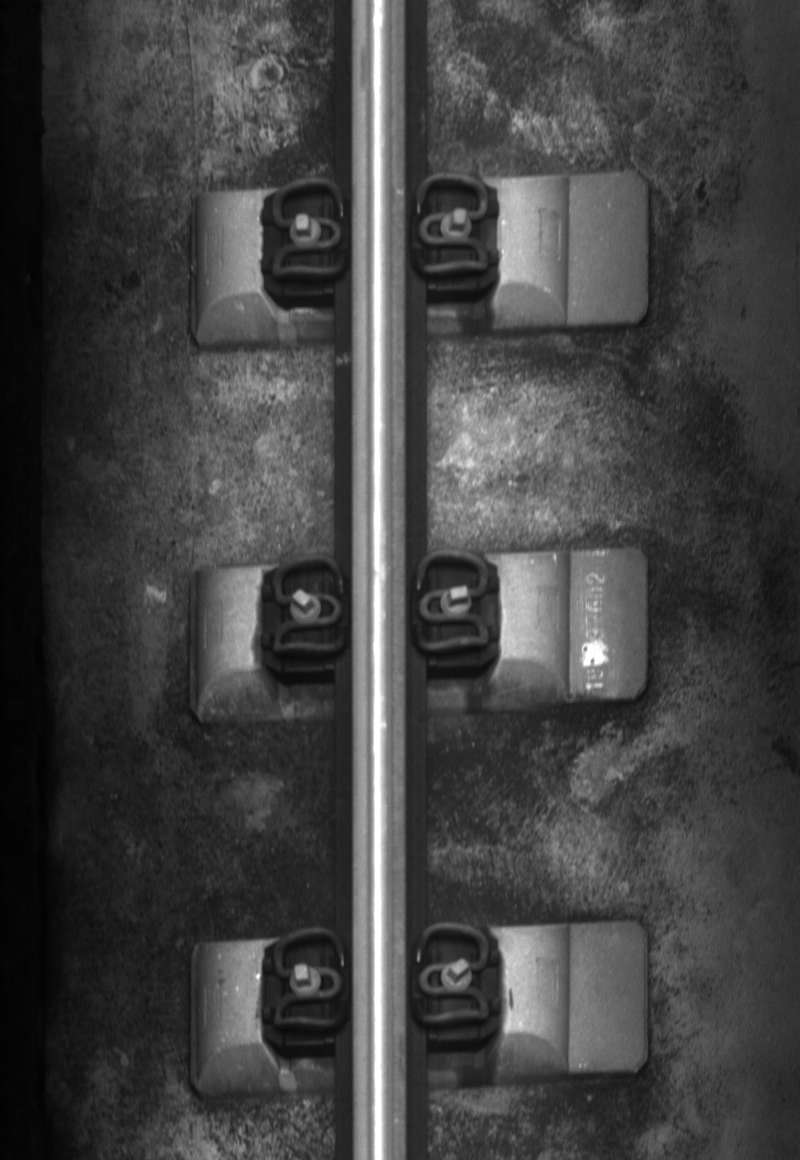l_faster: (265, 548, 349, 663), (267, 921, 350, 1037), (267, 172, 350, 286)
r_faster: (408, 915, 493, 1035), (409, 543, 494, 659), (410, 170, 490, 280)
